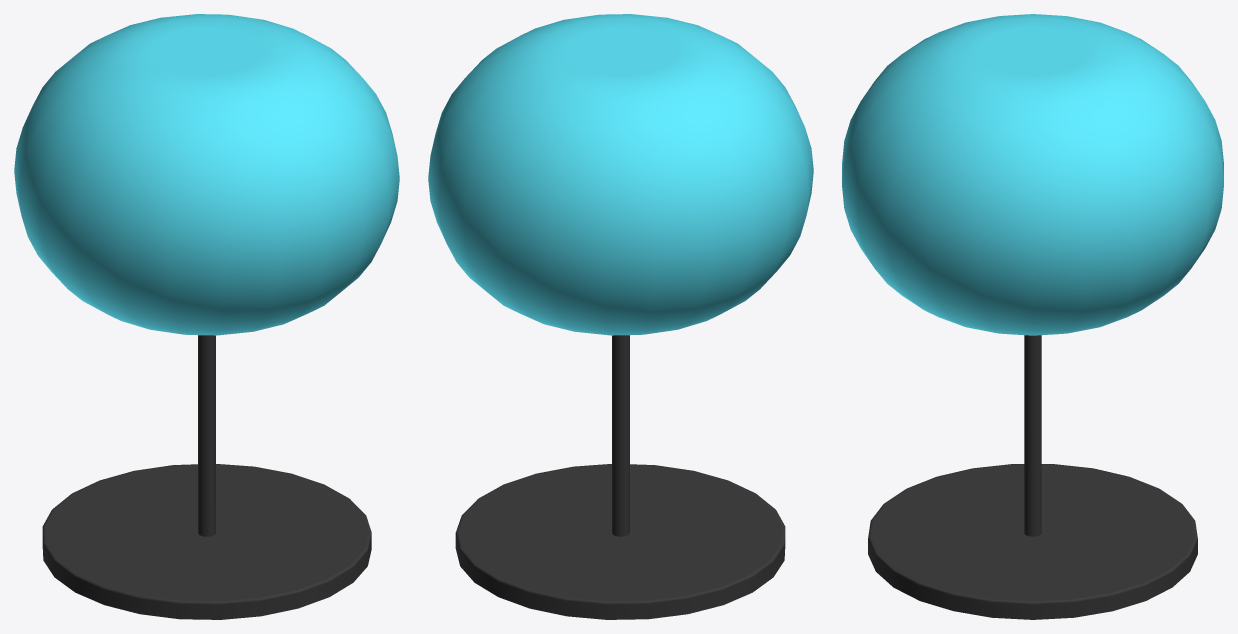
Rendered from SM_FloorLight_002_c.FBX.
3 renders of one model, left to right at view 1: azimuth 30°, elevation 25°; view 2: azimuth 150°, elevation 25°; view 3: azimuth 270°, elevation 25°, orthographic.
Parts seen in each view (by area): view 1: SM_FloorLight_002_c; view 2: SM_FloorLight_002_c; view 3: SM_FloorLight_002_c.
Part boxes in pixels (x1,y1,x2,y2): SM_FloorLight_002_c: [14, 14, 399, 619]; SM_FloorLight_002_c: [428, 14, 813, 619]; SM_FloorLight_002_c: [842, 14, 1223, 619].
Size of the model in its own units: 41.37 by 40.95 by 58.98.
